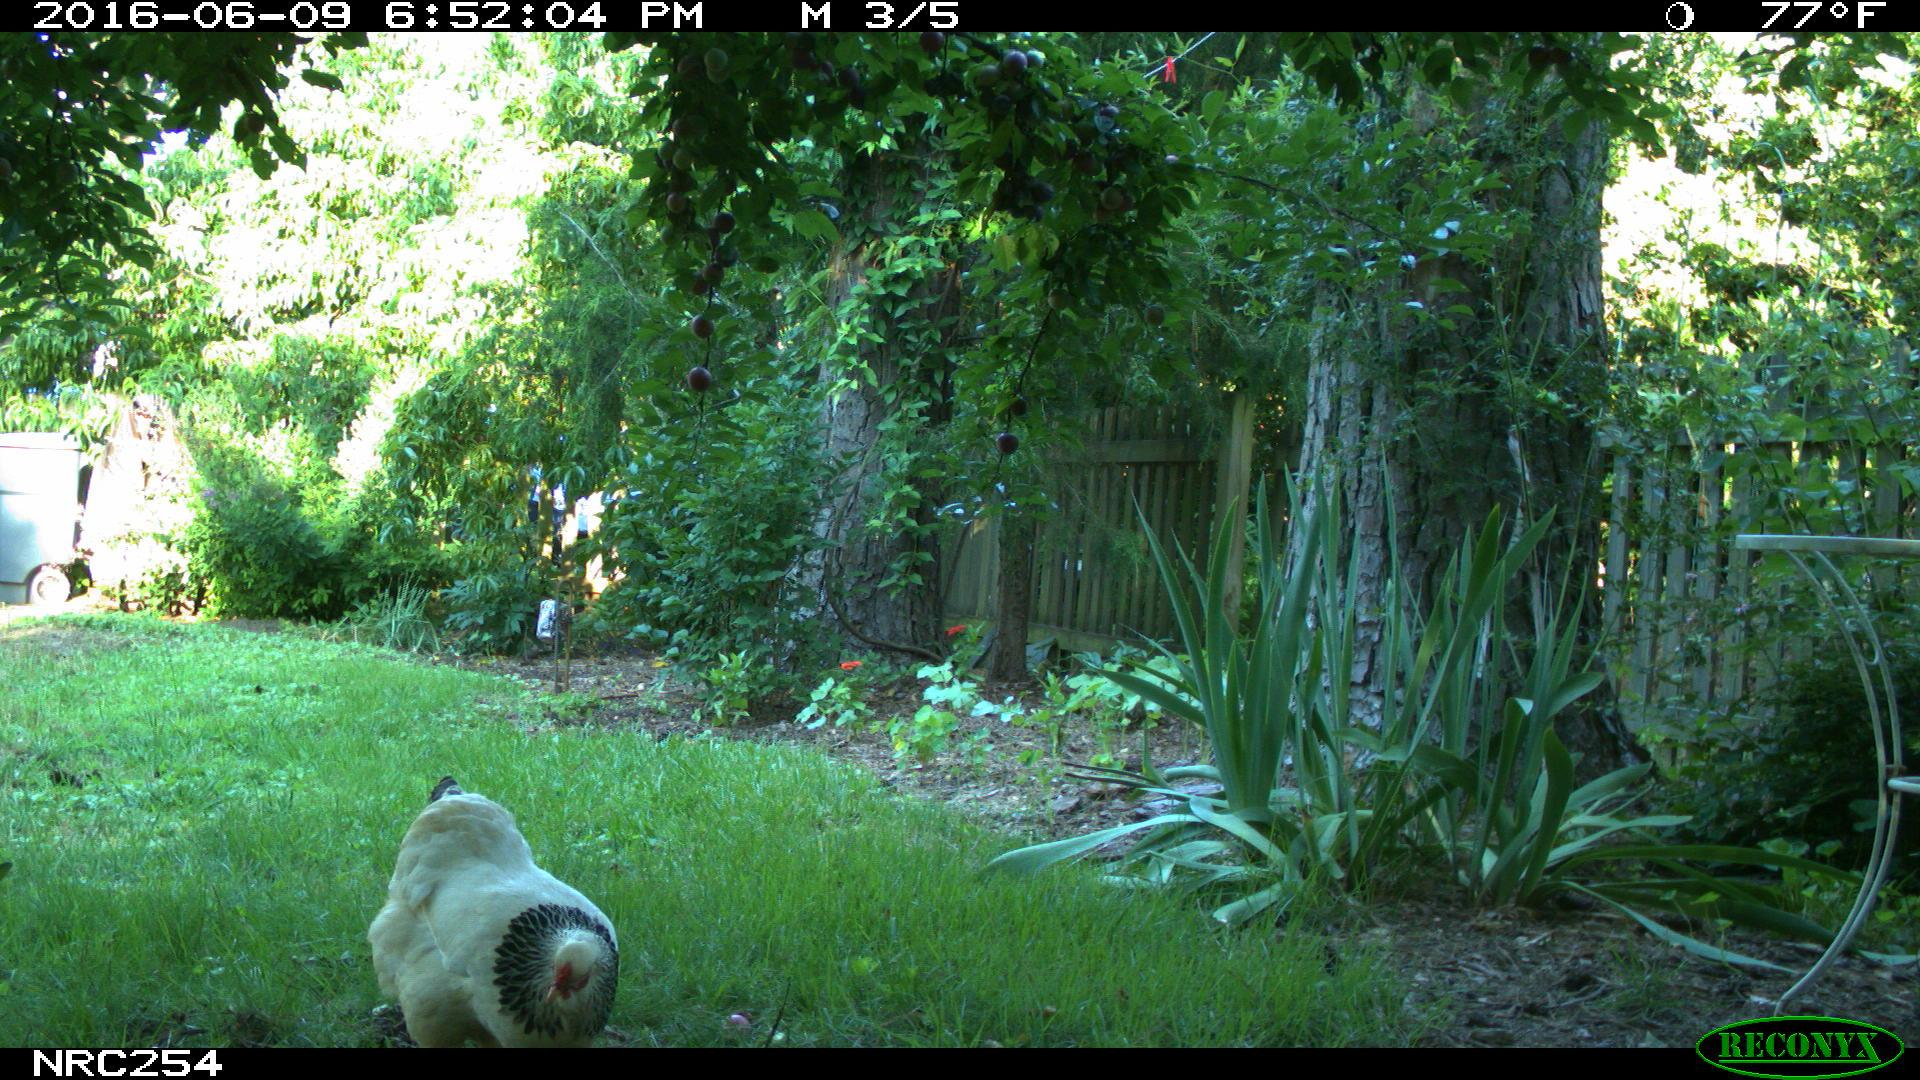Animal: (367, 779, 620, 1047)
